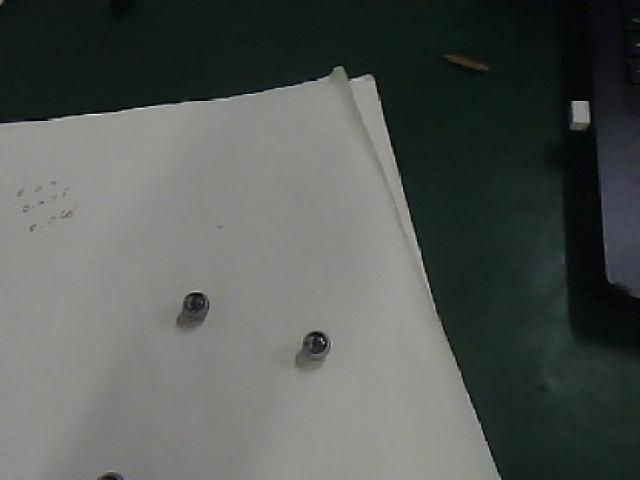steel-ball: (285, 308, 349, 375), (166, 280, 234, 343)
